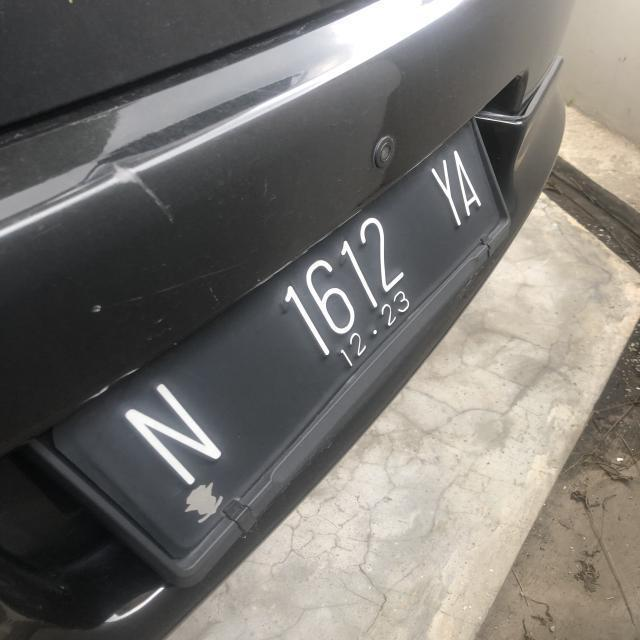1: (280, 274, 330, 362), (339, 232, 378, 312)
2: (358, 216, 404, 297)
6: (304, 252, 356, 334)
A: (452, 144, 485, 218)
N: (118, 364, 222, 504)
Y: (425, 153, 460, 226)
